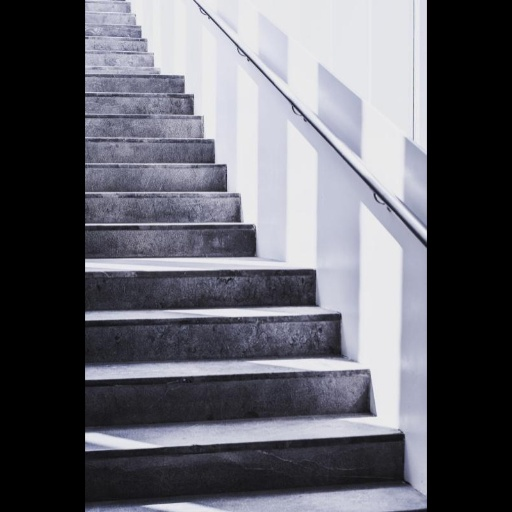Stairs: (87, 0, 426, 512)
